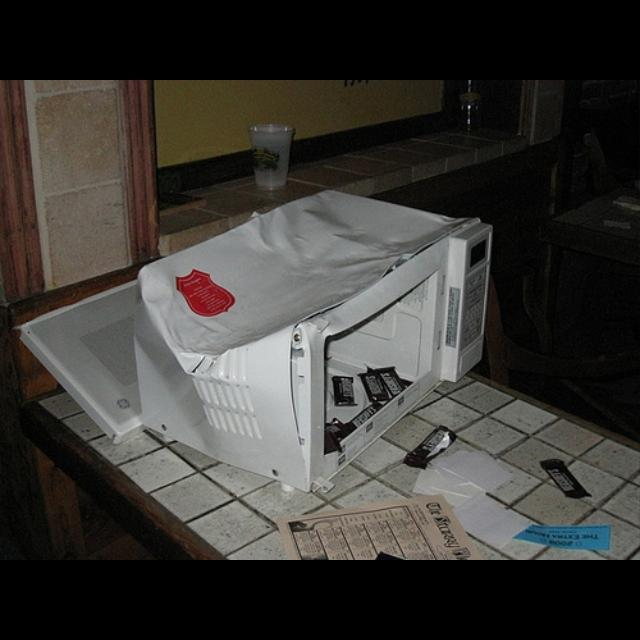Microwave: (133, 189, 492, 494)
